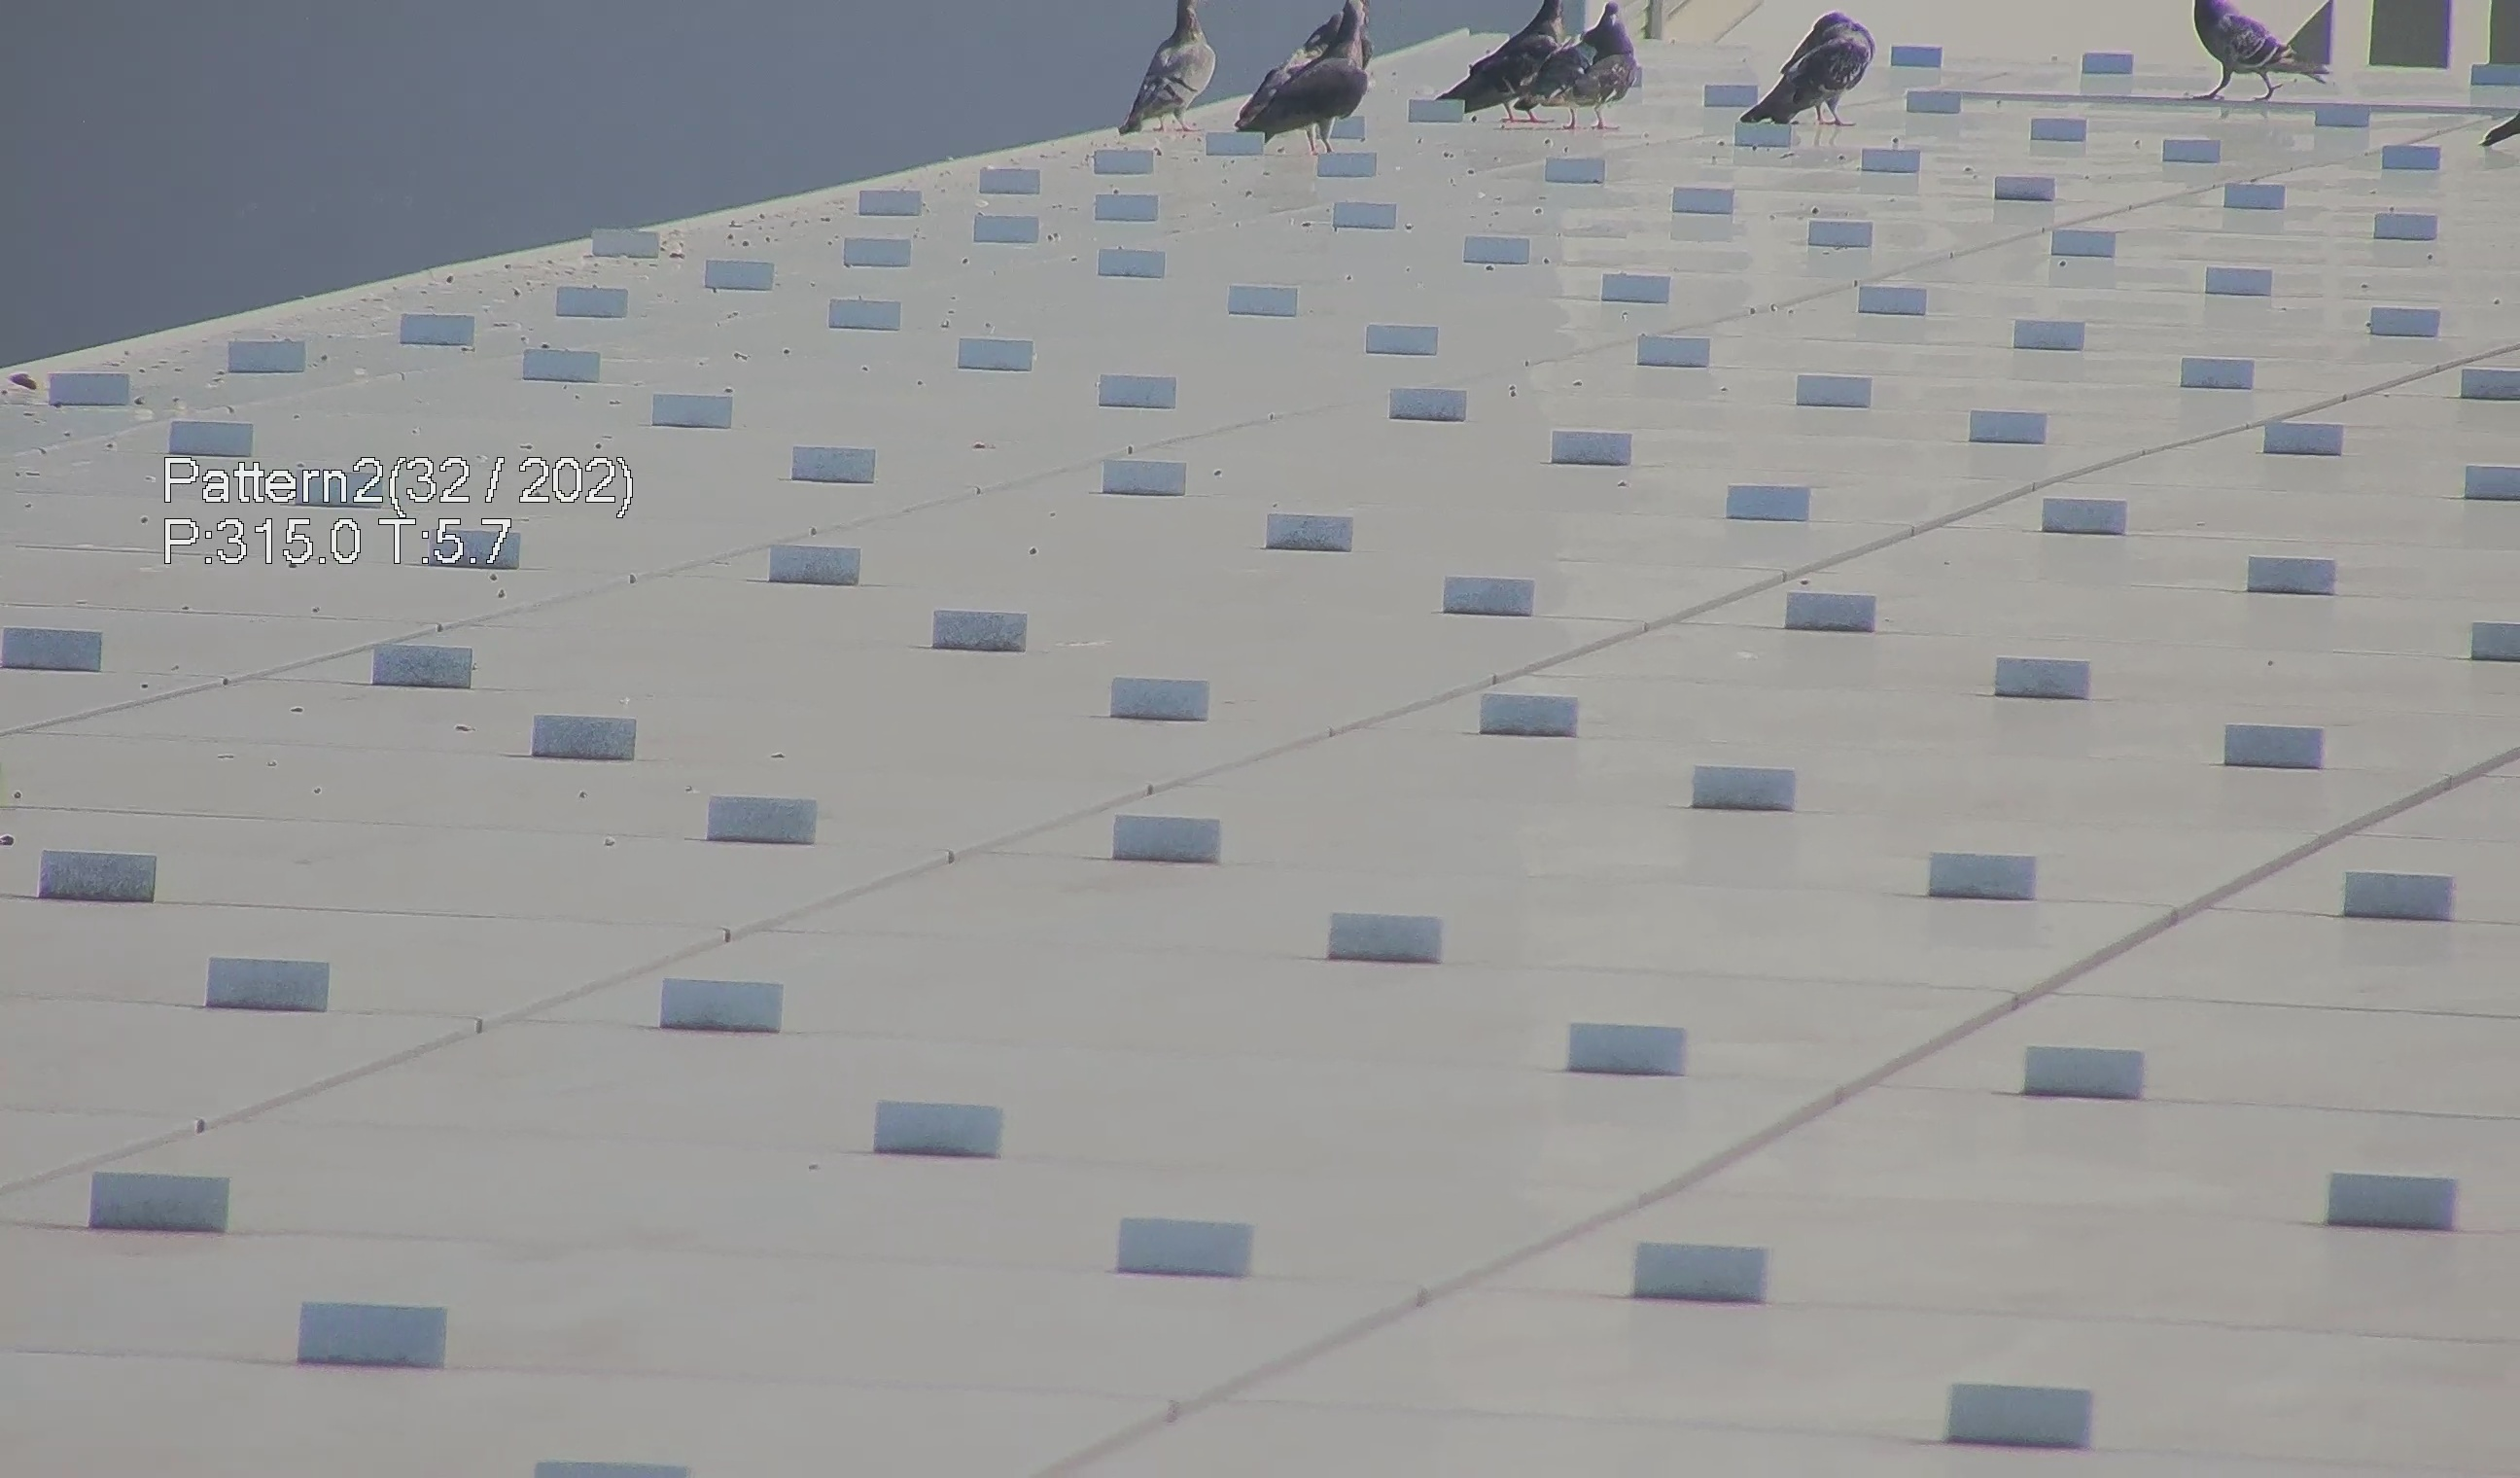Pigeon: (1227, 2, 1379, 150), (1739, 4, 1889, 144), (1421, 2, 1567, 135), (1101, 2, 1219, 144), (2205, 2, 2348, 106), (1521, 2, 1634, 130)
